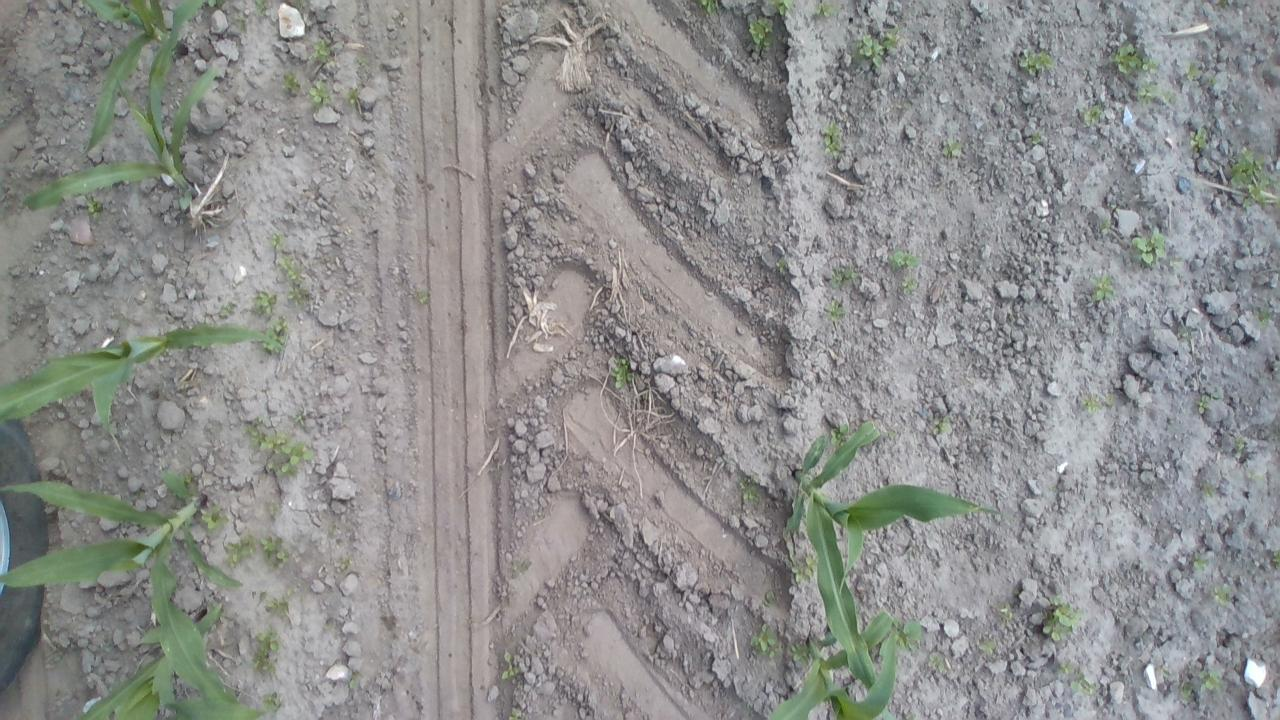Maize: (781, 415, 1016, 691), (0, 468, 247, 700), (0, 318, 284, 448), (18, 64, 221, 214), (75, 600, 272, 720), (82, 0, 204, 156), (763, 611, 900, 720)
Weeds: (242, 411, 314, 477), (1228, 144, 1280, 208), (1038, 592, 1090, 643), (852, 27, 902, 68), (1129, 226, 1165, 270), (252, 628, 280, 678), (224, 532, 258, 570), (750, 622, 781, 662), (746, 14, 777, 53), (260, 314, 290, 354), (258, 533, 290, 569), (1108, 42, 1141, 76), (1016, 43, 1050, 75), (608, 354, 634, 390), (198, 502, 228, 532), (893, 618, 920, 650), (1070, 666, 1100, 694), (887, 250, 924, 272), (275, 255, 305, 282), (245, 292, 278, 316), (306, 78, 334, 106), (1090, 270, 1116, 300), (790, 554, 816, 584), (1194, 388, 1222, 415), (736, 472, 760, 503), (822, 121, 842, 158), (266, 597, 294, 623), (1077, 99, 1103, 126), (1198, 666, 1226, 690), (829, 266, 858, 289), (500, 650, 520, 682), (1248, 302, 1272, 328), (1134, 82, 1159, 106), (820, 298, 845, 322), (310, 38, 332, 64), (511, 558, 534, 582), (1140, 50, 1162, 75), (791, 638, 810, 666), (1187, 126, 1209, 150), (285, 284, 311, 304), (1191, 550, 1214, 572), (942, 136, 963, 159), (1212, 583, 1232, 607), (769, 0, 793, 20), (830, 422, 850, 446), (260, 690, 281, 712), (996, 600, 1016, 623), (1183, 60, 1202, 84), (812, 0, 836, 19), (1080, 393, 1101, 414), (976, 632, 996, 654), (926, 650, 946, 672), (930, 414, 950, 436), (899, 274, 921, 294), (86, 196, 104, 219), (282, 70, 300, 92), (344, 86, 362, 108), (267, 501, 284, 524), (1199, 479, 1218, 497), (349, 667, 364, 689), (268, 232, 286, 250), (1178, 681, 1195, 700), (893, 98, 916, 112), (1232, 432, 1248, 452), (1058, 660, 1076, 677), (1168, 255, 1186, 272), (698, 0, 717, 16), (761, 590, 780, 606), (220, 302, 239, 318), (288, 410, 305, 427), (1175, 323, 1193, 339), (1161, 88, 1178, 104), (884, 422, 900, 438), (232, 14, 247, 30), (1246, 466, 1263, 480), (1098, 217, 1110, 236), (337, 558, 352, 573), (182, 470, 198, 484), (414, 288, 428, 304), (1030, 128, 1043, 144), (1103, 392, 1115, 408), (253, 0, 265, 15), (1272, 546, 1280, 568), (508, 707, 521, 720), (356, 56, 370, 68), (322, 623, 337, 634), (1208, 73, 1219, 87), (327, 523, 338, 537), (1158, 664, 1170, 676), (776, 259, 786, 271), (1010, 586, 1020, 596), (286, 588, 292, 596)
